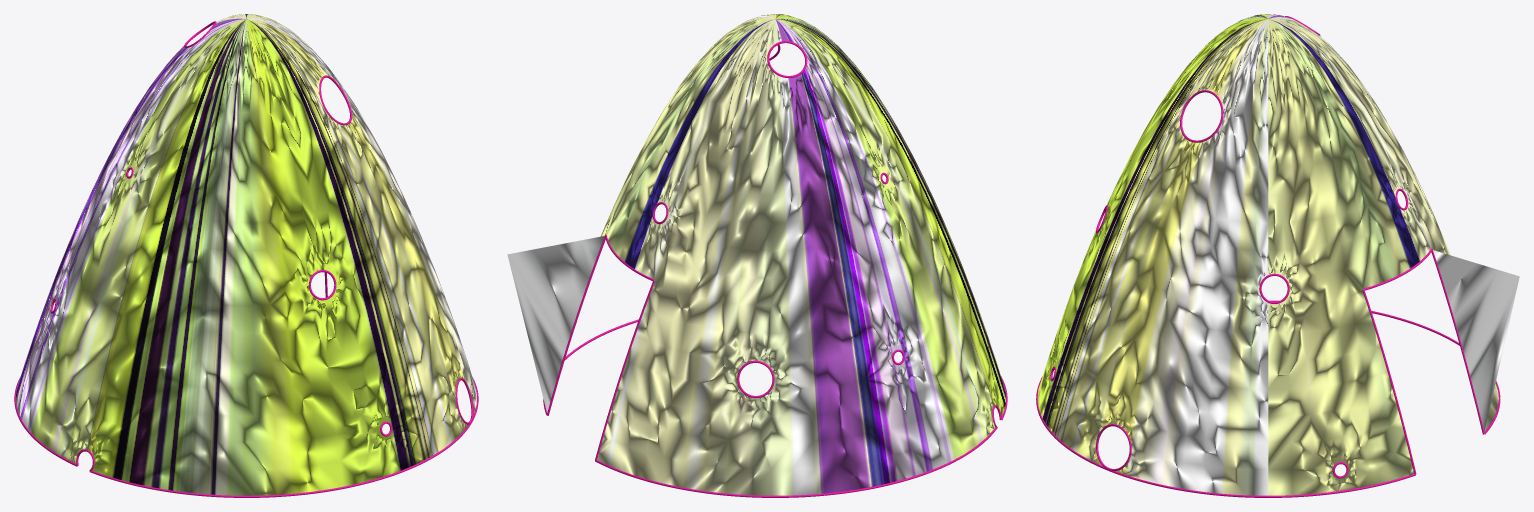
3 views of the same model, side by side, from view 1: azimuth 30°, elevation 25°; view 2: azimuth 150°, elevation 25°; view 3: azimuth 270°, elevation 25° (orthographic).
Visible parts, largest first — view 1: Solids, Solids_2, Openings; view 2: Solids, Solids_2, Canopy, Openings, Canopy_2; view 3: Solids, Solids_2, Canopy, Openings, Canopy_2.
Part boxes in pixels (bbox=[...]): Solids: bbox=[16, 14, 476, 495]; Solids_2: bbox=[16, 15, 476, 495]; Openings: bbox=[14, 21, 478, 497]; Solids: bbox=[597, 14, 1005, 495]; Solids_2: bbox=[598, 15, 1005, 495]; Canopy: bbox=[507, 236, 604, 412]; Openings: bbox=[543, 41, 1007, 497]; Canopy_2: bbox=[508, 237, 602, 407]; Solids: bbox=[1037, 14, 1498, 495]; Solids_2: bbox=[1038, 15, 1498, 495]; Canopy: bbox=[1433, 250, 1519, 431]; Openings: bbox=[1036, 16, 1500, 497]; Canopy_2: bbox=[1433, 250, 1519, 425].
Size of the model in its own units: 12.43 by 11.26 by 12.95.
3 materials, 3 textured.
